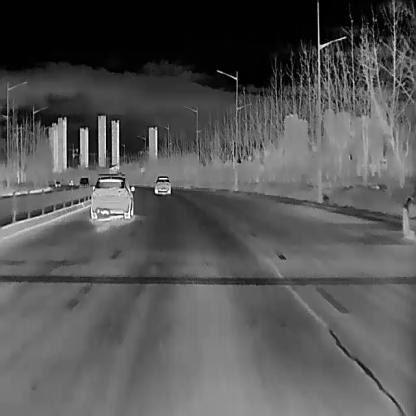car: (89, 171, 134, 218), (154, 174, 170, 193), (78, 176, 88, 188), (66, 179, 74, 185), (54, 180, 60, 186)
